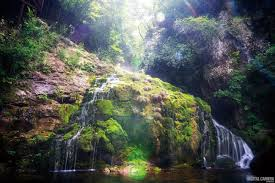mountain: (4, 4, 275, 181)
waterfall: (59, 62, 259, 167)
